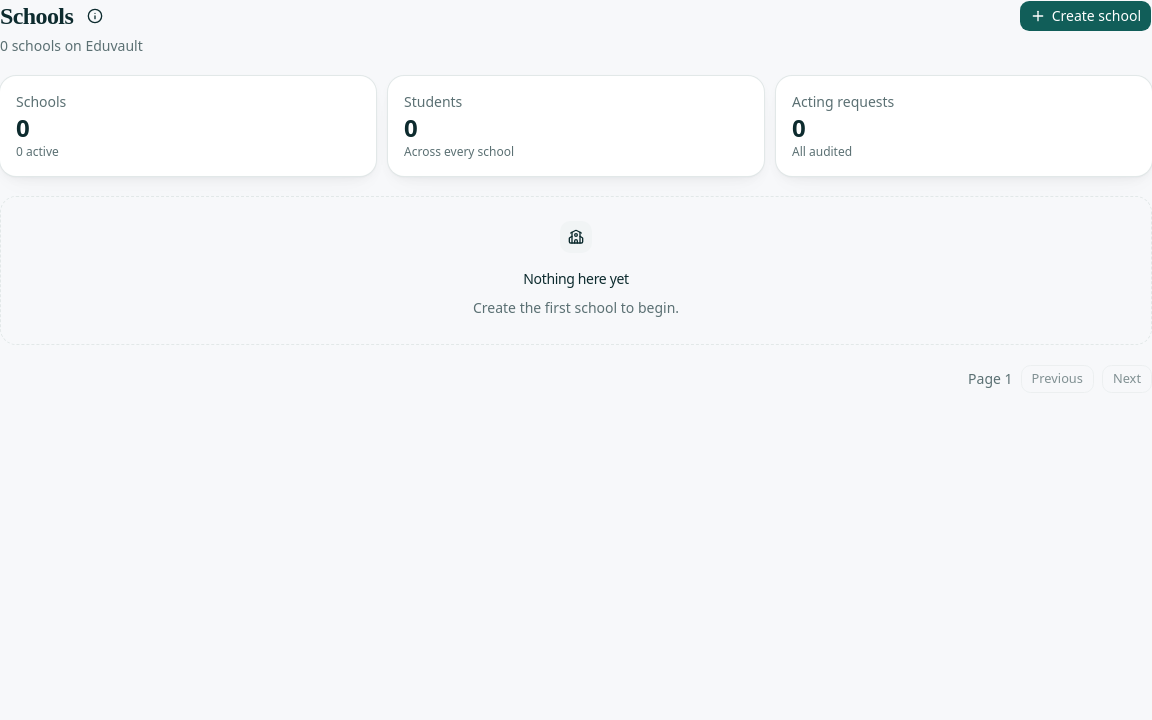
it: CreateSchoolSheet › shows a taken slug in the form and keeps the sheet open
Click the button "Create school".
click(1085, 16)  # box [1019,0,1151,32]
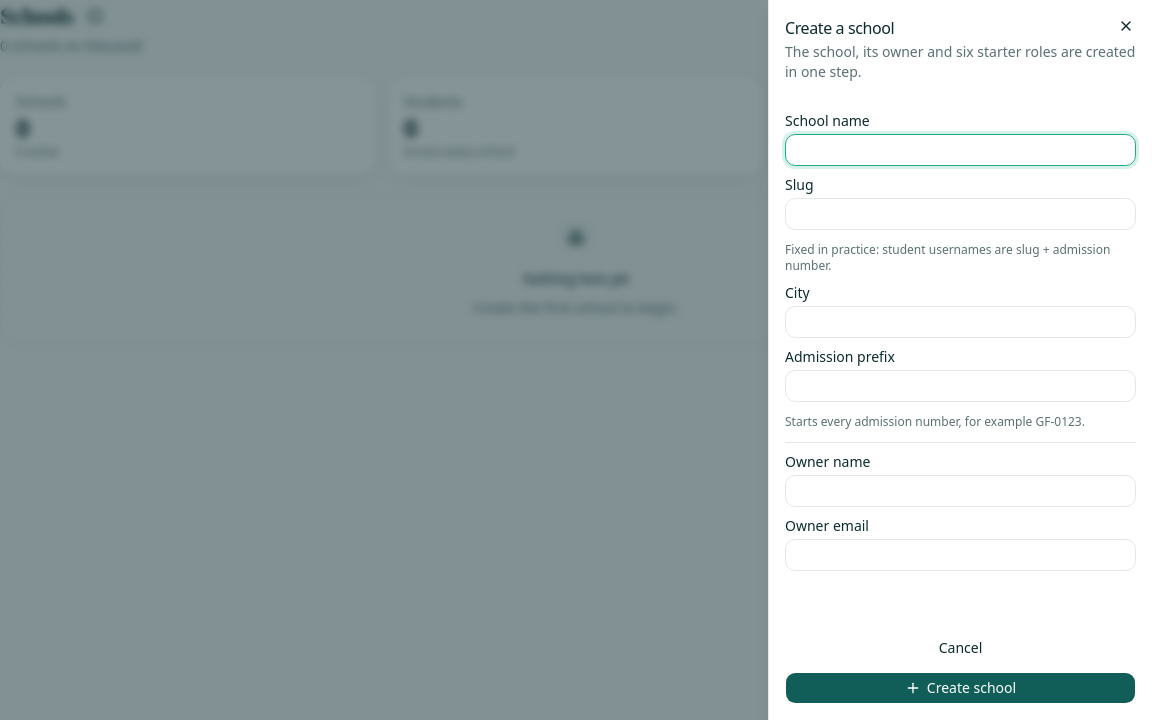
Type "Greenfield College" into the field labelled "School name".
click(960, 150); type("Greenfield College")  # box [785,134,1136,166]
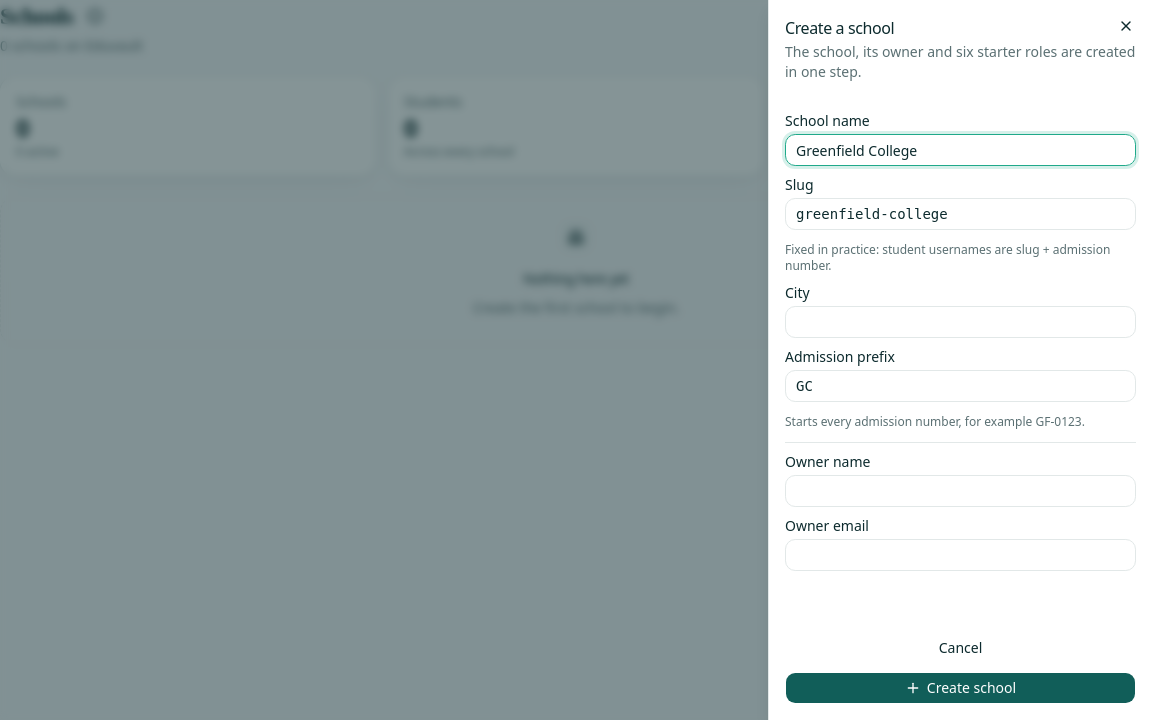
Type "Funmi Adeyemi" into the field labelled "Owner name".
click(960, 491); type("Funmi Adeyemi")  # box [785,475,1136,507]
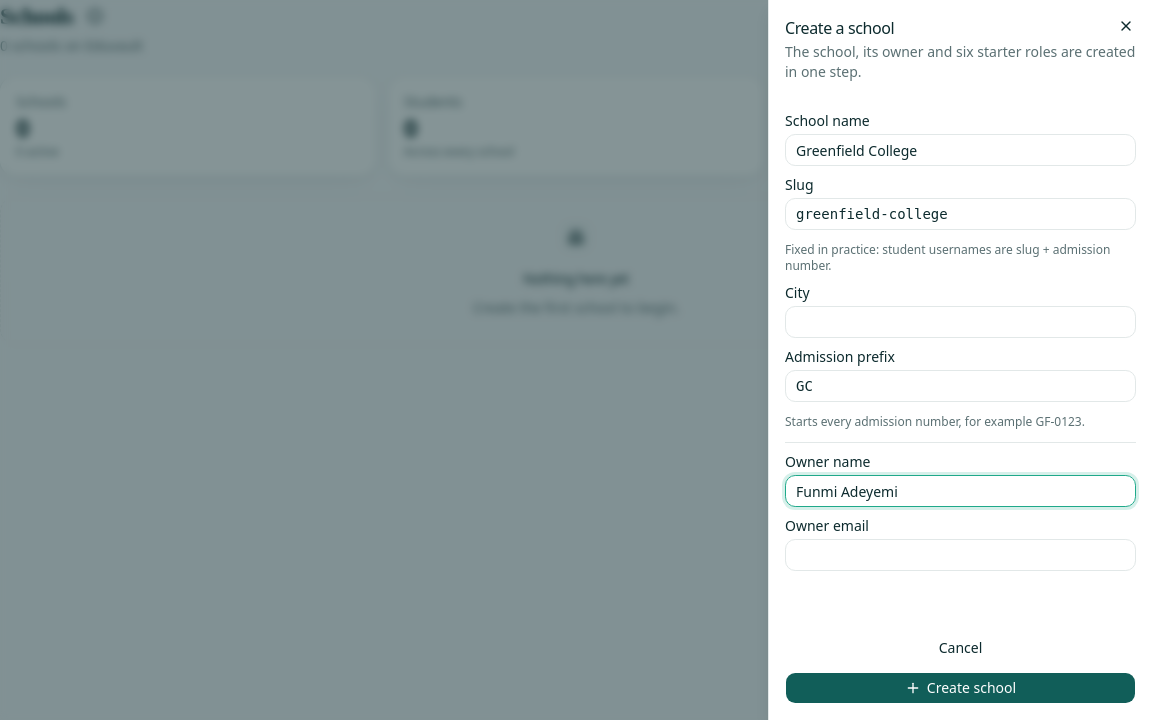
Type "funmi@greenfield.test" into the field labelled "Owner email".
click(960, 555); type("funmi@greenfield.test")  # box [785,539,1136,571]
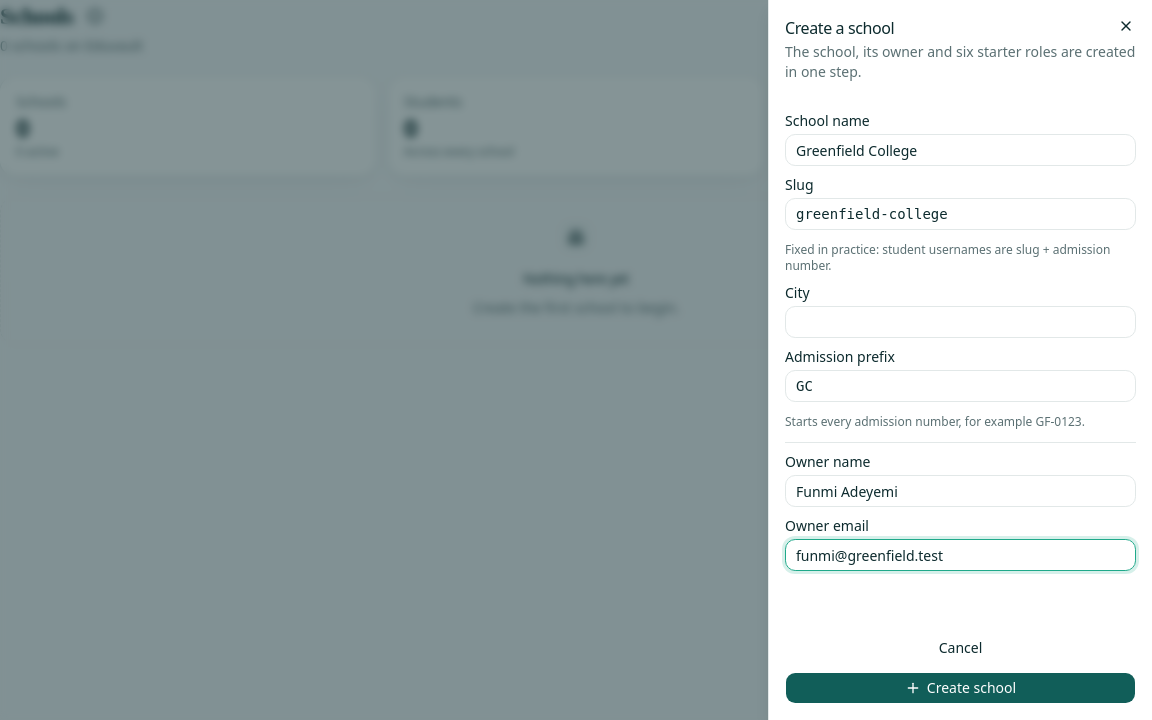
Click the button "Create school".
click(960, 688)  # box [785,672,1136,704]
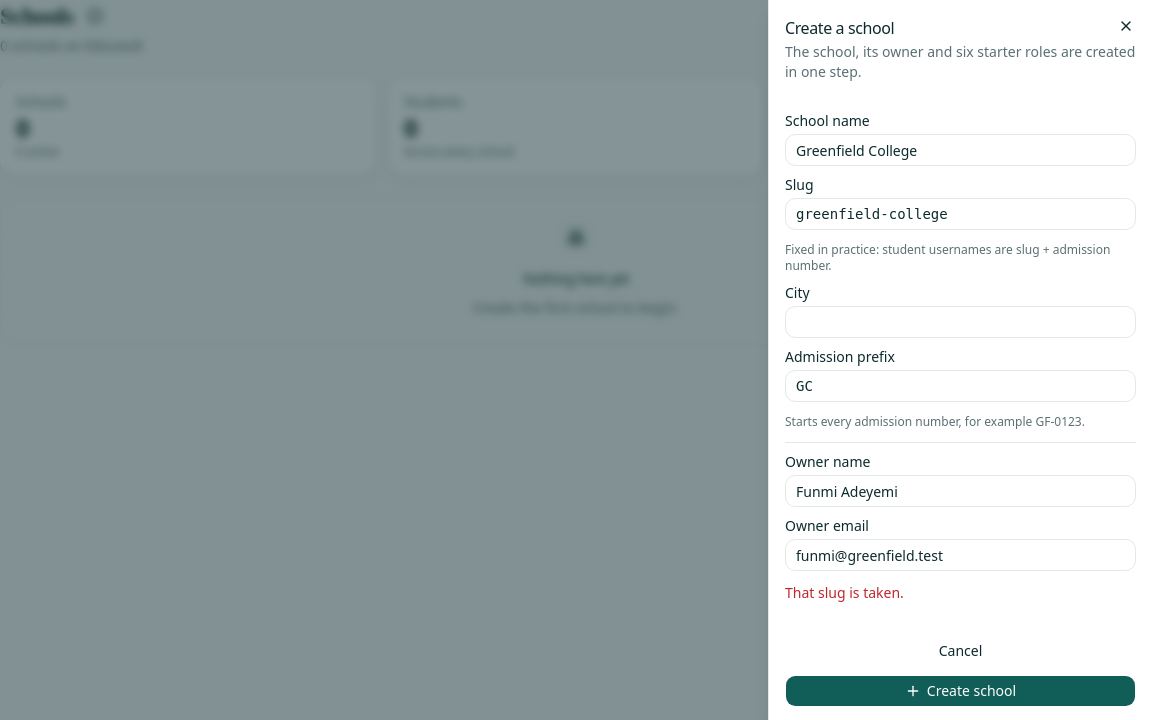
expect the dialog "Create a school" is shown: met, box [768,0,1151,719]
expect the message reads "That slug is taken.": met, box [785,583,904,602]
